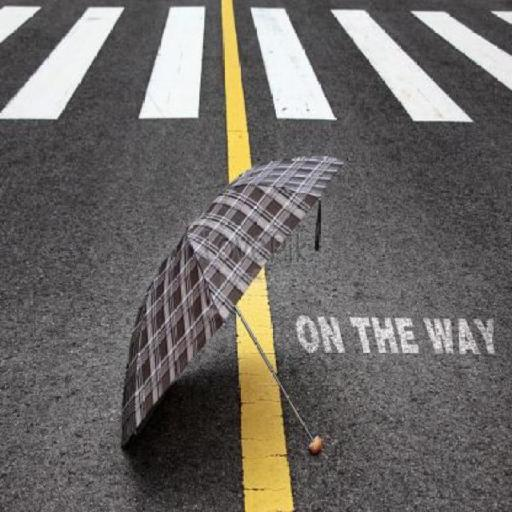guarda_chuva: (120, 154, 345, 455)
